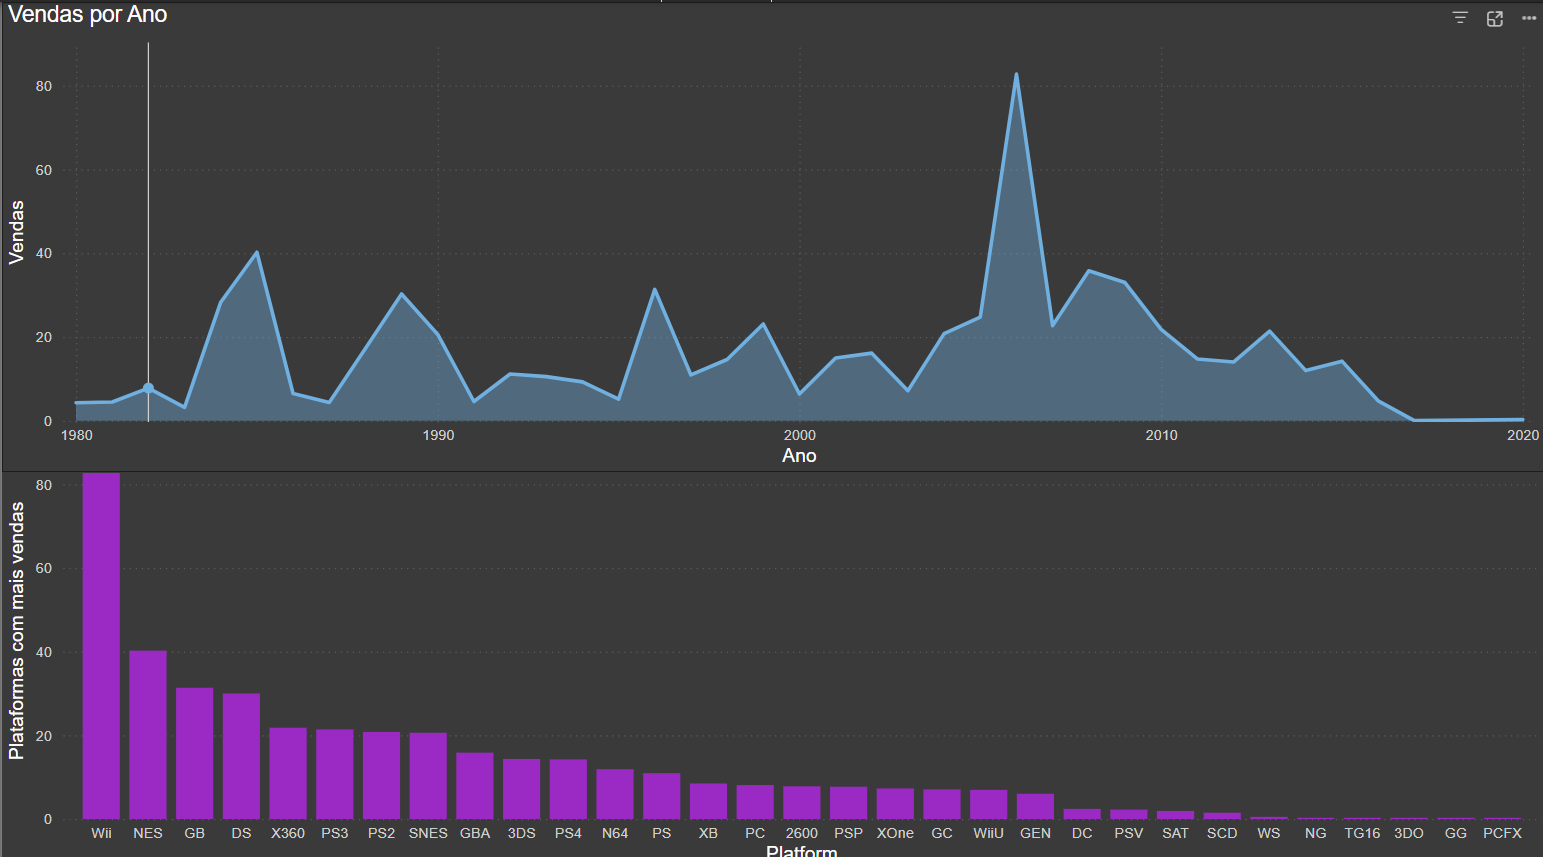

The page's visual inventory and layout, read from the dashboard file:
{"tool":"powerbi","page":{"name":"Página 1","canvas":[1280,720],"ordinal":0},"visuals":[{"type":"lineClusteredColumnComboChart","fields":{"Y":["Max(vgsales.Global_Sales)"],"Category":["vgsales.Platform"]},"box":[0,330.2,1280.2,389.5],"z":0},{"type":"lineChart","fields":{"Y":["Max(vgsales.Global_Sales)"],"Category":["vgsales.Year"]},"box":[0,0,1280,390],"z":1000}]}

Visuals, with their boxes in screenshot pixels (x1, y1, x2, y2), scaled from the page's 1280x720 canvas onto the 1543x857 screenshot:
lineClusteredColumnComboChart - Max(vgsales.Global_Sales) x vgsales.Platform: box=[0, 393, 1542, 856]
lineChart - Max(vgsales.Global_Sales) x vgsales.Year: box=[0, 0, 1542, 464]
